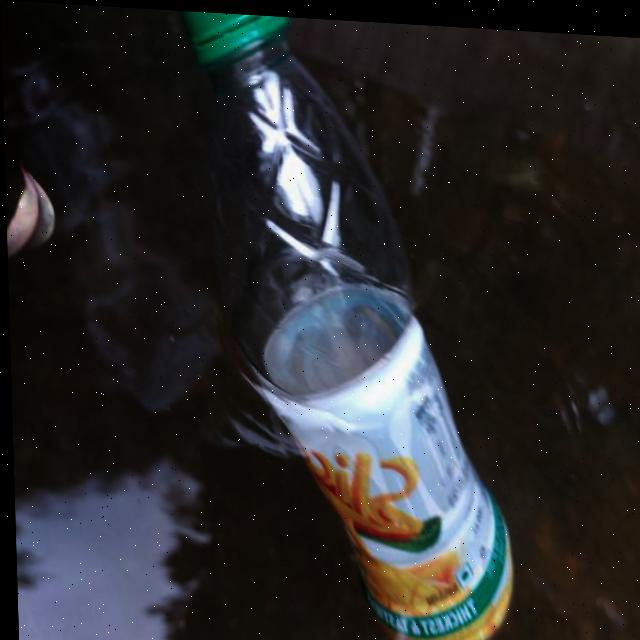waterbottle: (159, 7, 524, 640)
